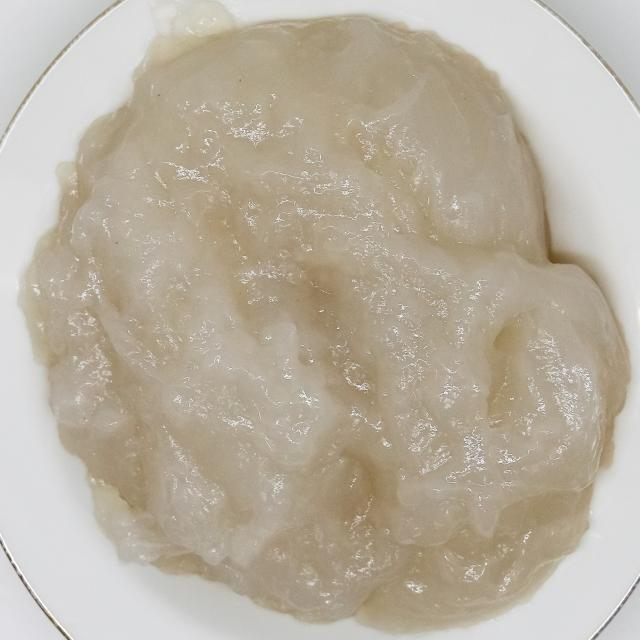Papeda: (34, 12, 630, 626)
